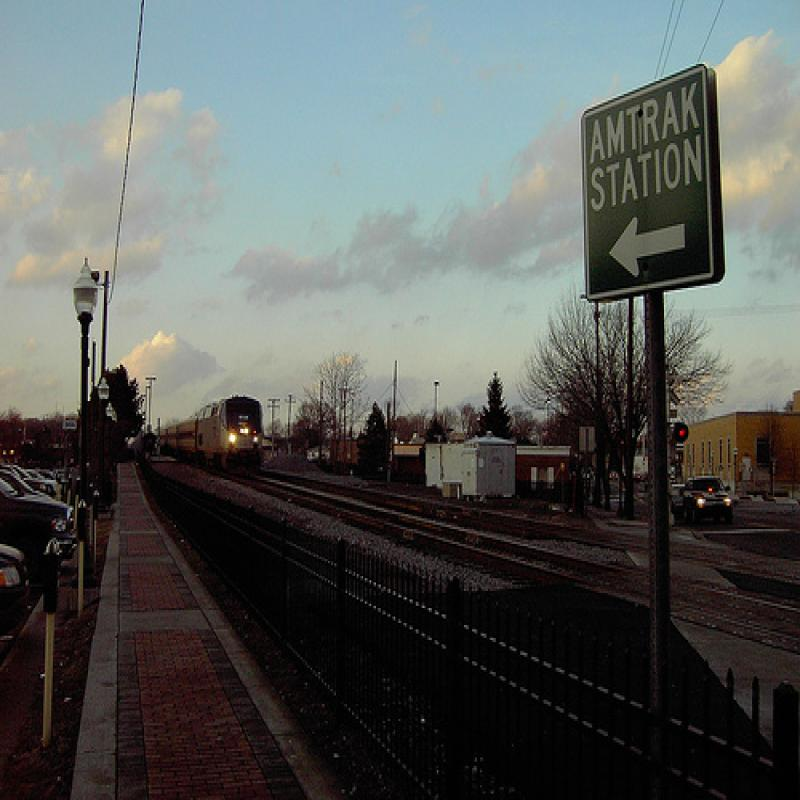train: (156, 396, 265, 473)
